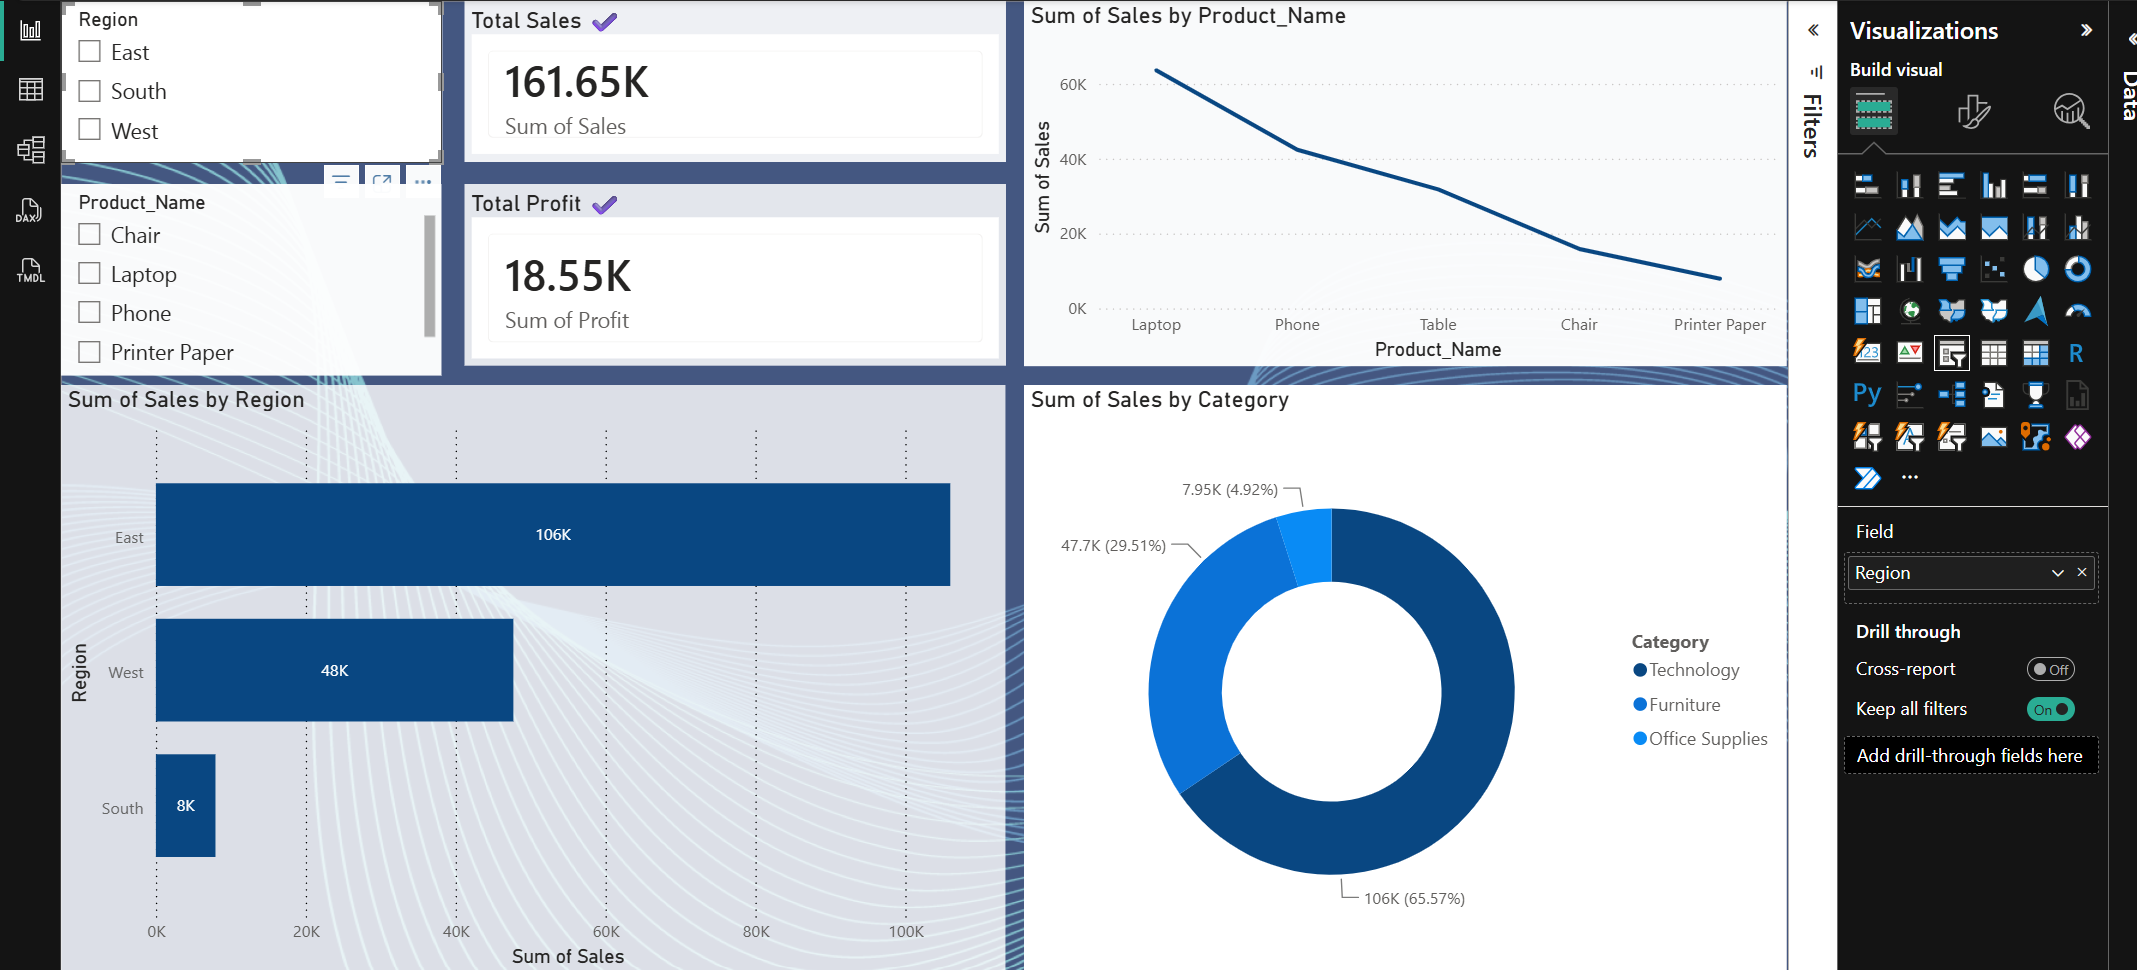

The dashboard page shown, as its layout file describes it:
{"tool":"powerbi","page":{"name":"Page 1","canvas":[1280,720],"ordinal":0},"visuals":[{"type":"cardVisual","title":"Total Sales ✔️","fields":{"Data":["Sum(sales.Sales)"]},"box":[298.7,0,401.3,119.2],"z":0},{"type":"cardVisual","title":"Total Profit ✔️","fields":{"Data":["Sum(sales.Profit)"]},"box":[298.7,135.9,401.3,134.6],"z":1},{"type":"barChart","fields":{"Y":["Sum(sales.Sales)"],"Category":["sales.Region"]},"box":[0,284.6,700,435.9],"z":2},{"type":"slicer","fields":{"Values":["sales.Region"]},"box":[0,0,282.1,119.2],"z":3},{"type":"donutChart","fields":{"Y":["Sum(sales.Sales)"],"Category":["sales.Category"]},"box":[714.1,284.6,565.4,434.6],"z":7},{"type":"lineChart","fields":{"Category":["products_new.Product_Name"],"Y":["Sum(sales.Sales)"]},"box":[714.1,0,565.4,270.5],"z":8},{"type":"slicer","fields":{"Values":["sales.Product_Name"]},"box":[0,135.9,282.1,142.3],"z":9}]}

Visuals, with their boxes in screenshot pixels (x1, y1, x2, y2):
"Total Sales ✔️" cardVisual: rect(461, 0, 1013, 153)
"Total Profit ✔️" cardVisual: rect(461, 176, 1013, 361)
barChart - Sum(sales.Sales) x sales.Region: rect(50, 380, 1013, 969)
slicer - sales.Region: rect(50, 0, 438, 153)
donutChart - Sum(sales.Sales) x sales.Category: rect(1032, 380, 1809, 969)
lineChart - products_new.Product_Name x Sum(sales.Sales): rect(1032, 0, 1809, 361)
slicer - sales.Product_Name: rect(50, 176, 438, 371)
